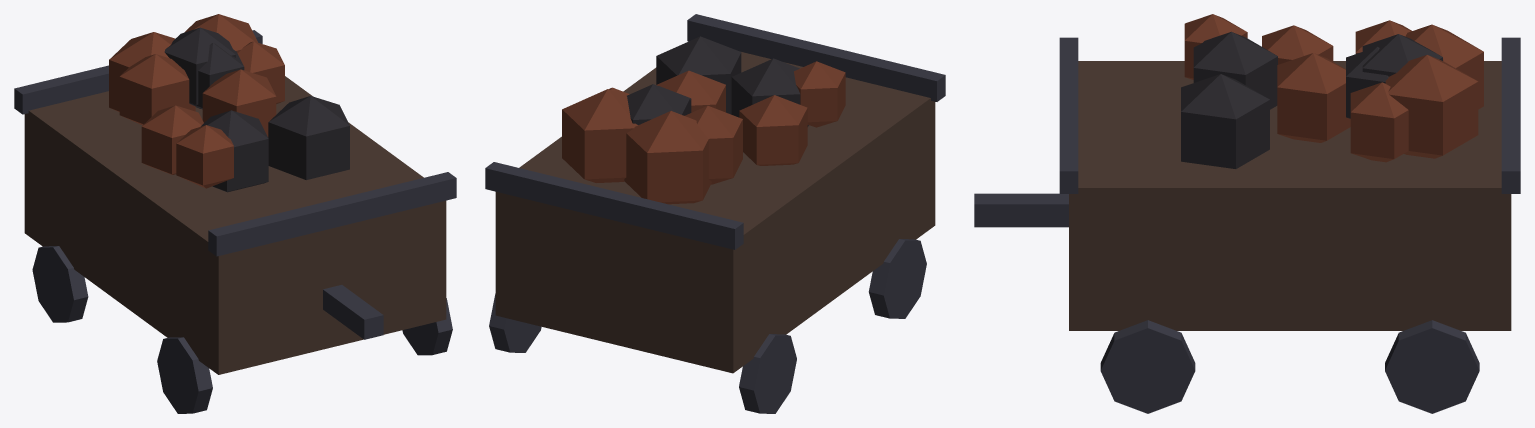
Rendered from soegol_cart.glb.
3 views of the same model, side by side, from view 1: azimuth 30°, elevation 25°; view 2: azimuth 150°, elevation 25°; view 3: azimuth 270°, elevation 25° (orthographic). The views are drawn at different scales.
Visible parts, largest first — view 1: soegol_cart; view 2: soegol_cart; view 3: soegol_cart.
Boxes of the visible parts, bbox=[...] form: soegol_cart: bbox=[14, 14, 456, 413]; soegol_cart: bbox=[485, 14, 945, 413]; soegol_cart: bbox=[974, 14, 1520, 413].
Bounding box in the file's own units: 1.06 × 1.09 × 1.73.
